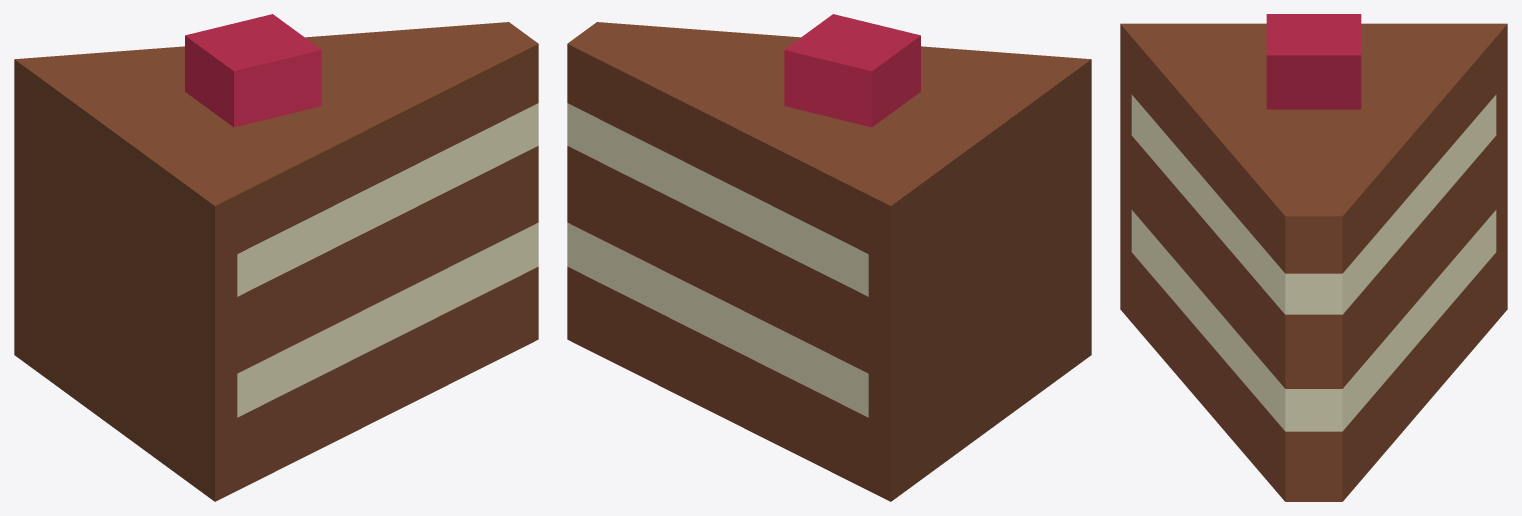
The model's file is CakeSlice1.glb.
3 views of the same model, side by side, from view 1: azimuth 30°, elevation 25°; view 2: azimuth 150°, elevation 25°; view 3: azimuth 270°, elevation 25° (orthographic). The views are drawn at different scales.
Parts seen in each view (by area): view 1: SI_Food_Bakery_CakeSlice; view 2: SI_Food_Bakery_CakeSlice; view 3: SI_Food_Bakery_CakeSlice.
Part boxes in pixels (box(x1,y1,x2,y2)): SI_Food_Bakery_CakeSlice: box(14, 14, 538, 501); SI_Food_Bakery_CakeSlice: box(567, 14, 1091, 501); SI_Food_Bakery_CakeSlice: box(1120, 14, 1507, 501).
Size of the model in its own units: 0.00376 by 0.00309 by 0.00319.
1 material, 1 textured.
